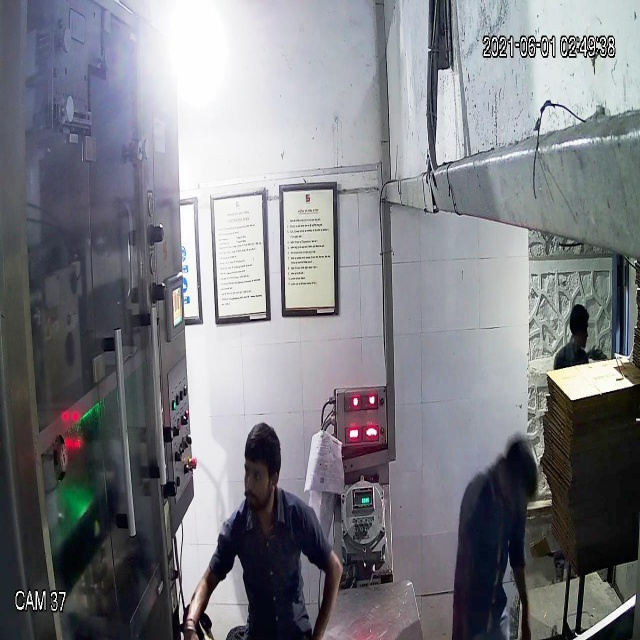Sin_gafas: (232, 455, 283, 493)
